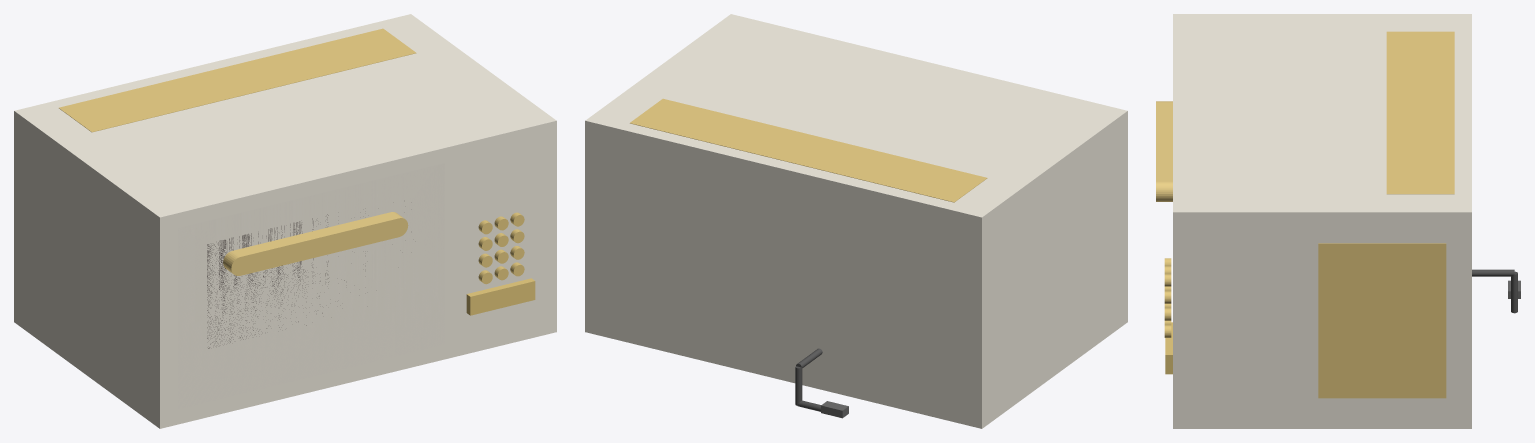
3 renders of one model, left to right at view 1: azimuth 30°, elevation 25°; view 2: azimuth 150°, elevation 25°; view 3: azimuth 270°, elevation 25°, orthographic. The views are drawn at different scales.
Parts seen in each view (by area): view 1: Microwave_Shell, Door_Frame, Top_Vent, Door_Handle, Door_Open_Button, Door_Window; view 2: Microwave_Shell, Top_Vent; view 3: Microwave_Shell, Side_Vent, Top_Vent, Door_Handle, Handle_Cap_Right.
Part boxes in pixels (x1,y1,x2,y2): Microwave_Shell: [14, 14, 556, 428]; Door_Frame: [178, 163, 444, 408]; Top_Vent: [59, 28, 416, 132]; Door_Handle: [233, 212, 399, 275]; Door_Open_Button: [466, 278, 535, 315]; Door_Window: [207, 214, 344, 348]; Microwave_Shell: [585, 14, 1127, 428]; Top_Vent: [630, 98, 987, 202]; Microwave_Shell: [1173, 14, 1471, 428]; Side_Vent: [1318, 243, 1446, 398]; Top_Vent: [1386, 31, 1454, 194]; Door_Handle: [1156, 102, 1172, 181]; Handle_Cap_Right: [1156, 181, 1172, 201].
Bounding box in the file's own units: 0.5505 × 0.2825 × 0.4275.
